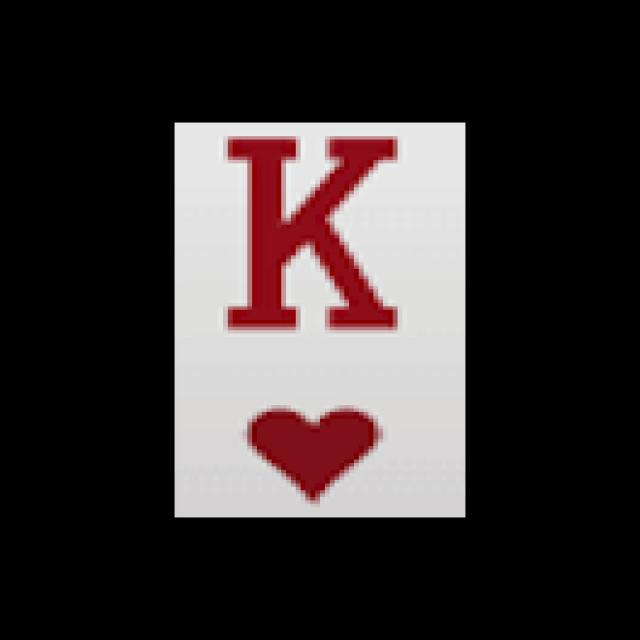KH: (194, 128, 430, 510)
